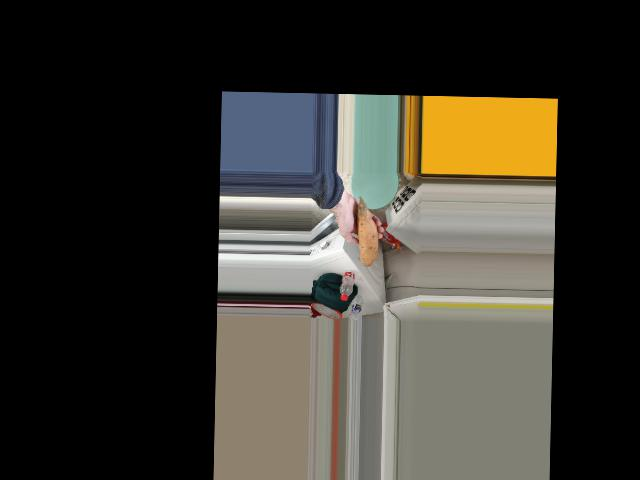sweet_potato: (356, 206, 380, 265)
